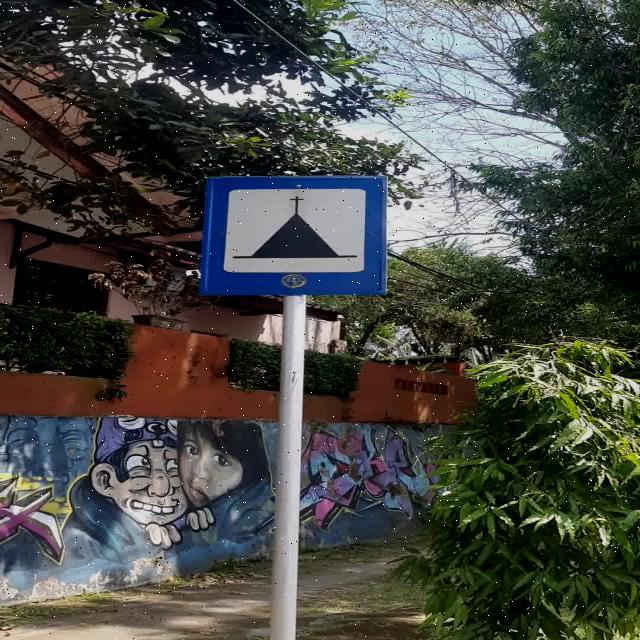Gereja: (200, 176, 388, 296)
